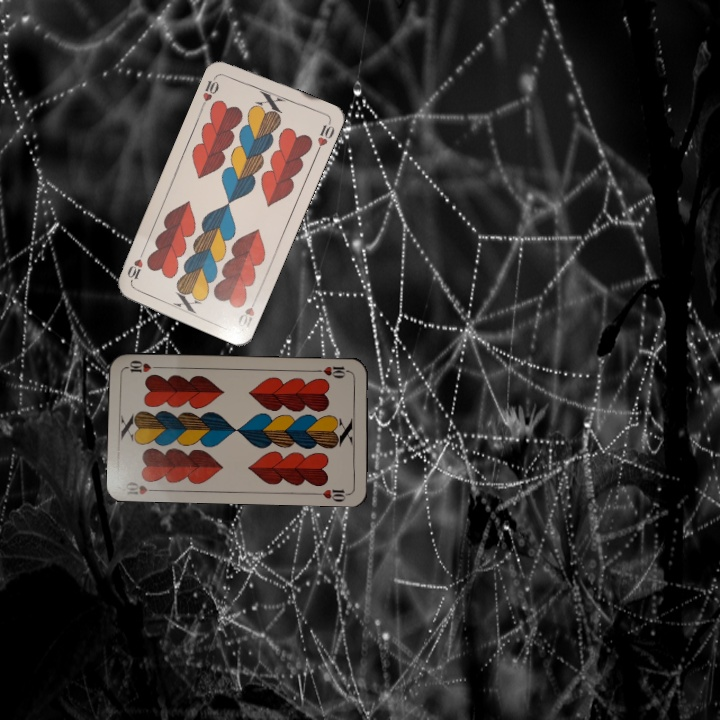H10: (234, 293, 260, 333), (198, 71, 221, 109), (312, 362, 353, 381), (122, 478, 162, 497)
